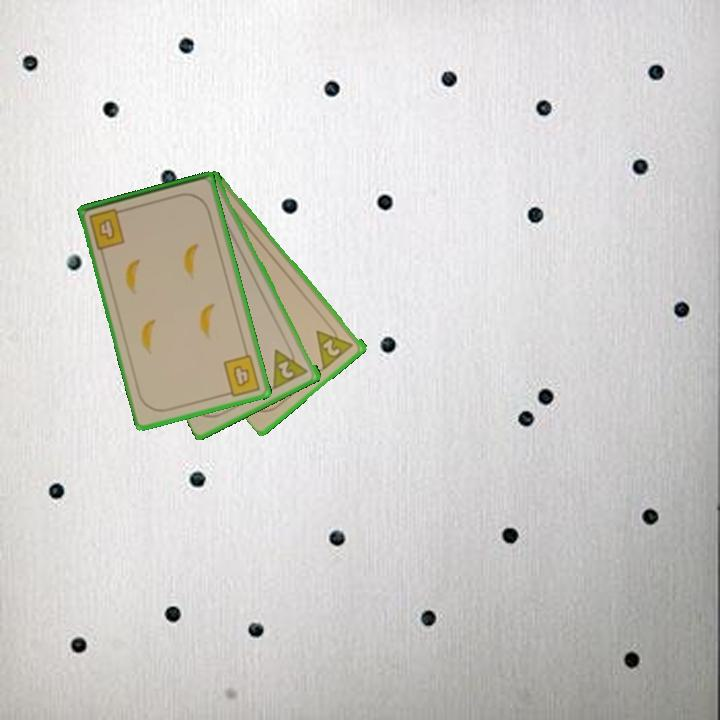2p: (312, 320, 358, 372), (275, 357, 297, 382)
4b: (220, 351, 263, 399), (86, 205, 129, 252)
